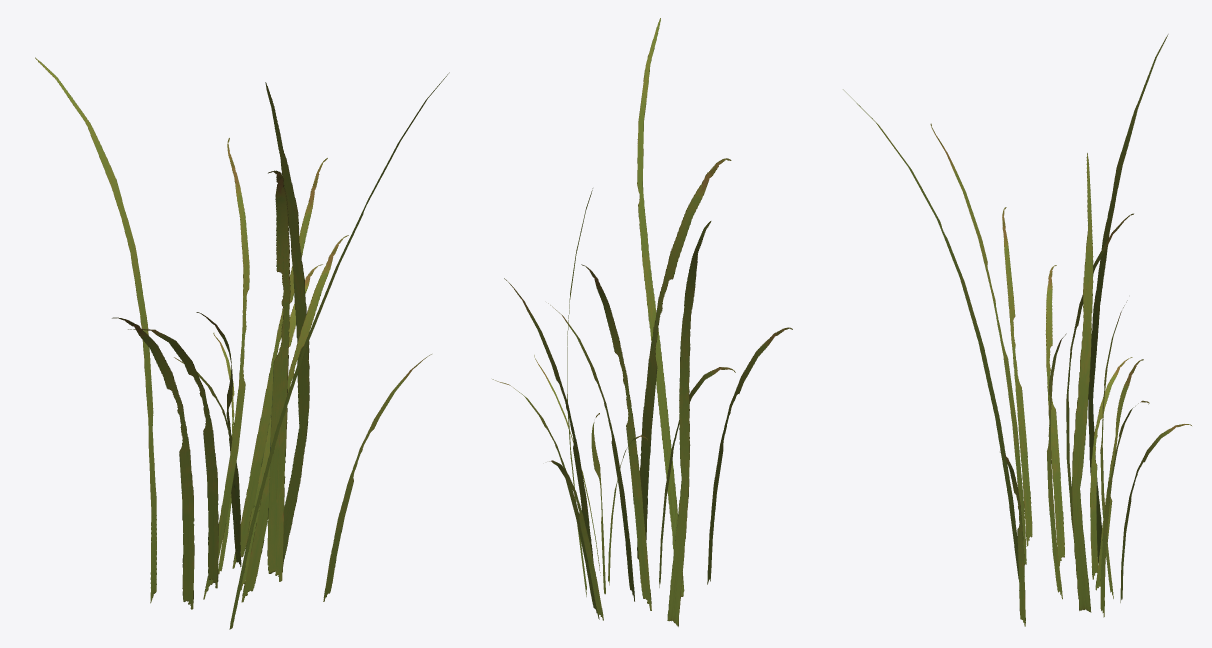
Rendered from Grass_long_dry_big_002.fbx.
The picture shows the model from 3 angles, left to right: view 1: azimuth 30°, elevation 25°; view 2: azimuth 150°, elevation 25°; view 3: azimuth 270°, elevation 25°; orthographic projection. The views are drawn at different scales.
Visible parts, largest first — view 1: Grass_long_dry_big.002; view 2: Grass_long_dry_big.002; view 3: Grass_long_dry_big.002.
Boxes of the visible parts, bbox=[...] form: Grass_long_dry_big.002: bbox=[35, 57, 449, 629]; Grass_long_dry_big.002: bbox=[492, 18, 792, 626]; Grass_long_dry_big.002: bbox=[843, 34, 1191, 626].
Size of the model in its own units: 22.71 by 40.77 by 24.21.
1 material, 1 textured.
